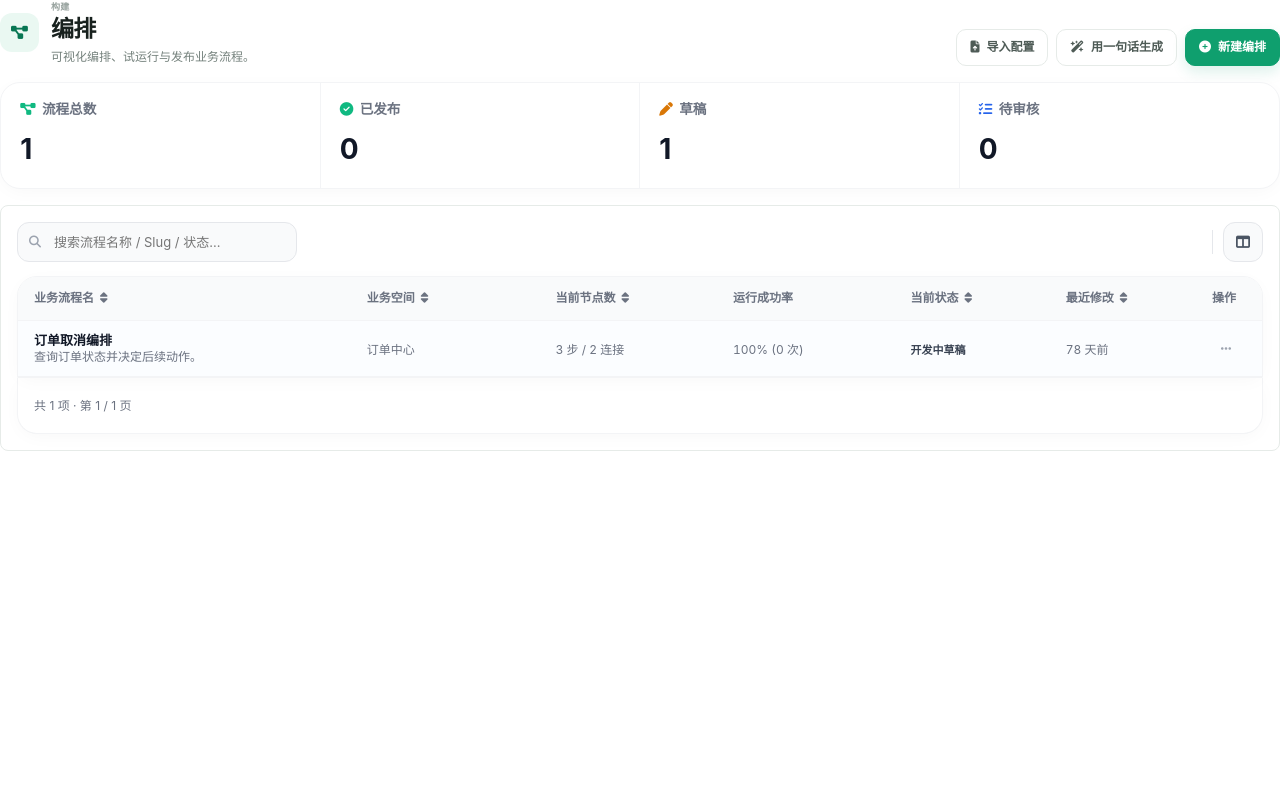
workflow view P1.4 › blocks an empty Workflow name before sending a create request
This screenshot has width=1280, height=800.
Click the button with class "workflow-create-button" at point(1232, 47), box left=1185, top=29, right=1279, bottom=66
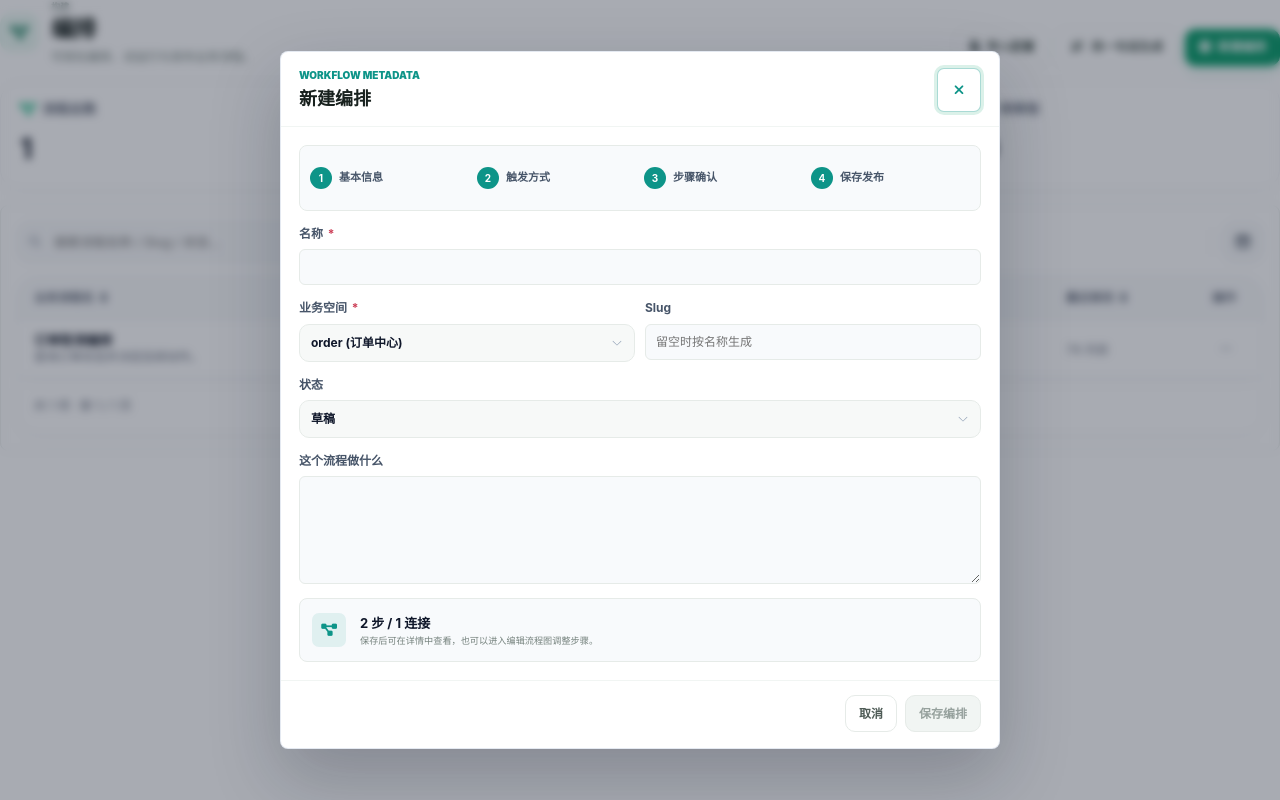
Result: the button "保存编排" is disabled at left=905, top=695, right=981, bottom=732
Leave the field labelled "名称 *", box left=299, top=249, right=981, bottom=285
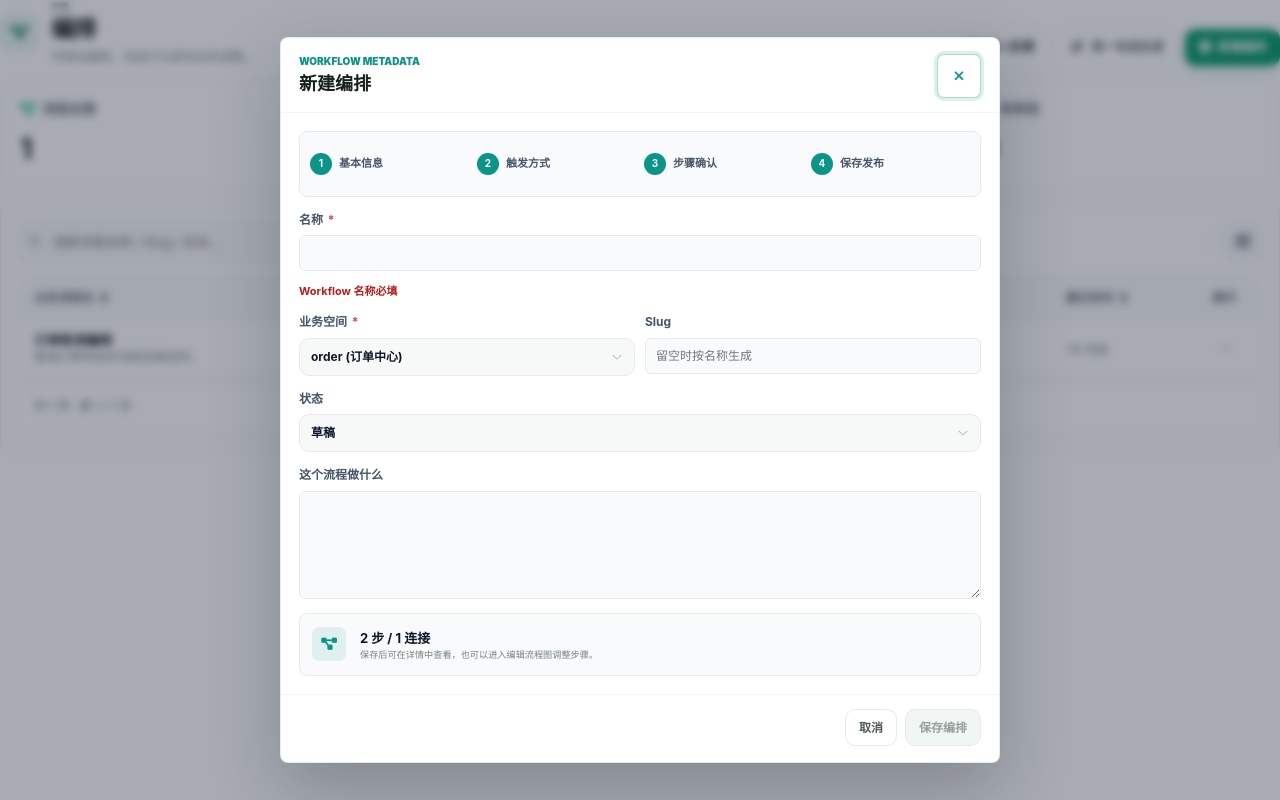
Result: the text "Workflow 名称必填" is shown at left=299, top=284, right=398, bottom=298
